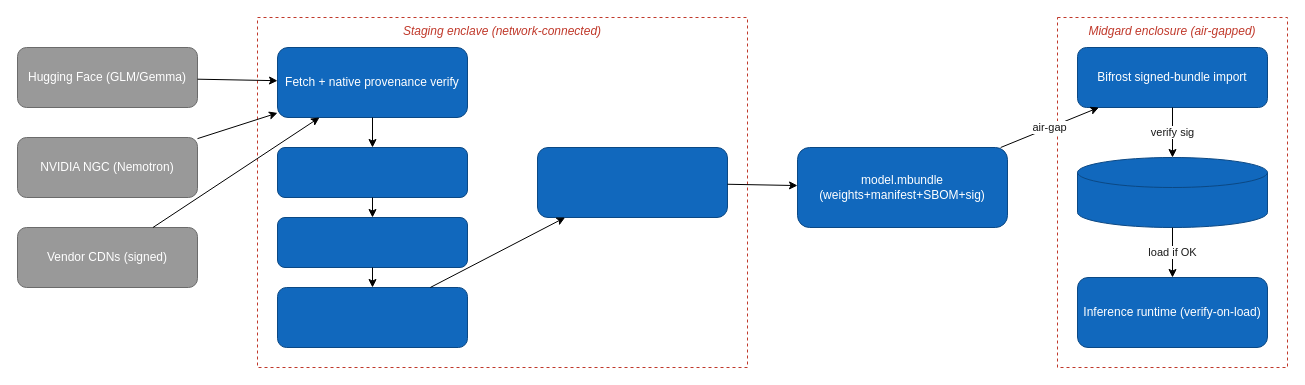
Image size: 1305x385. Some labels were removed from this diagram. The shapes that lost their labels are listed below. From the top down, each one's centre as x and y in pixels, then its label:
At [372,172]: "Licence capture + policy".
At [632,182]: "RE-SIGN under Akuma ML-DSA".
At [1172,192]: "Model Registry".
At [372,242]: "Model SBOM (CycloneDX)".
At [372,317]: "Baseline Evals + HW fingerprint".
